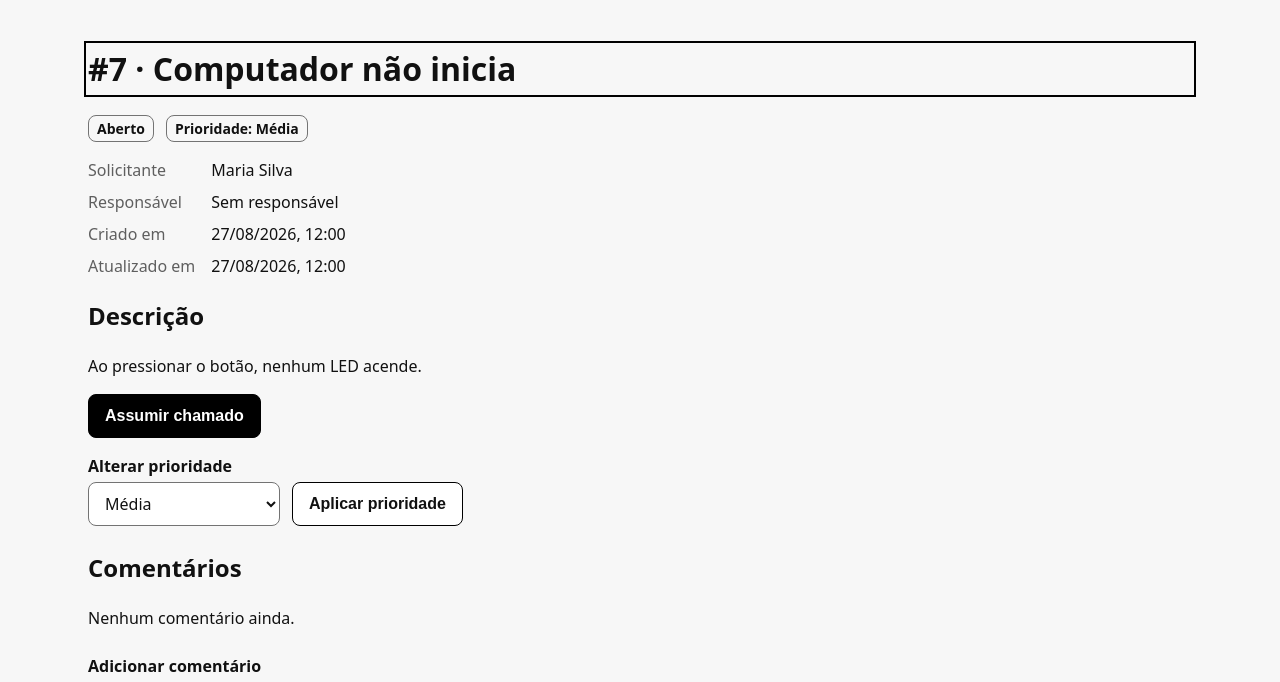
Scenario: TicketDetailPage › shows a recoverable message and refreshes on a claim conflict
Click the button "Assumir chamado". click: [174, 416]
box: [88,394,261,438]
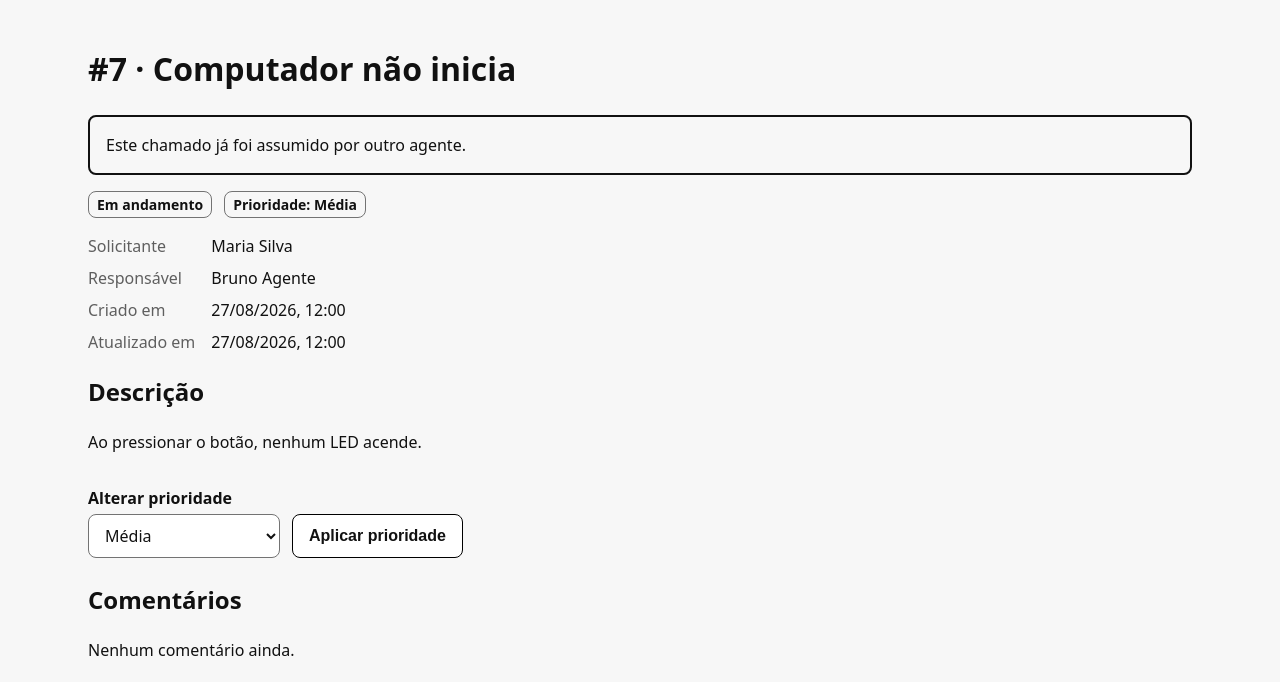
Check: the message shows "já foi assumido por outro agente", box [106,134,466,156]
Check: the text "Bruno Agente" is shown, box [211,267,316,289]
